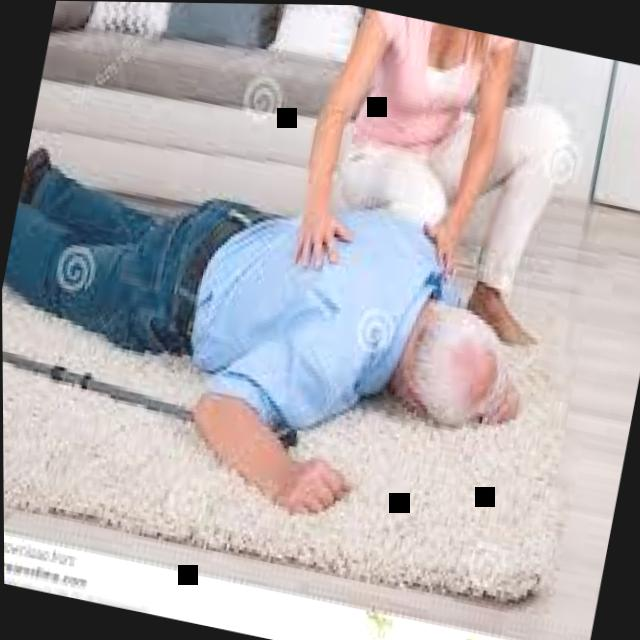Fall-Detected: (0, 65, 576, 569)
